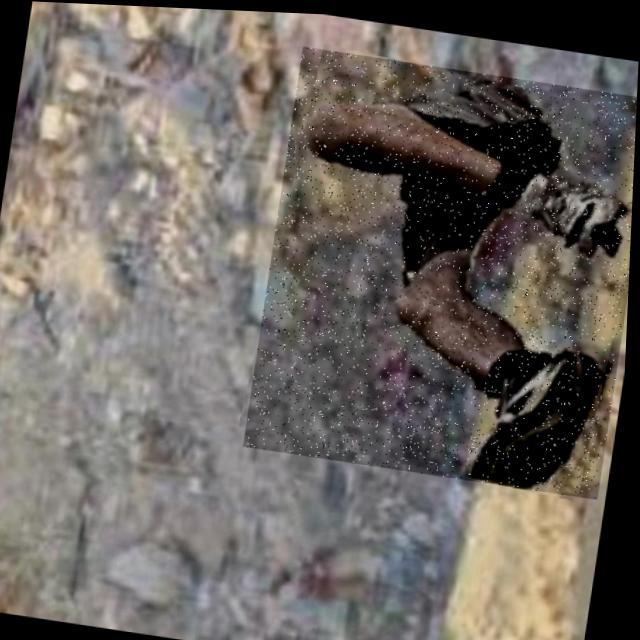Person in Rubble: (246, 41, 639, 493)
